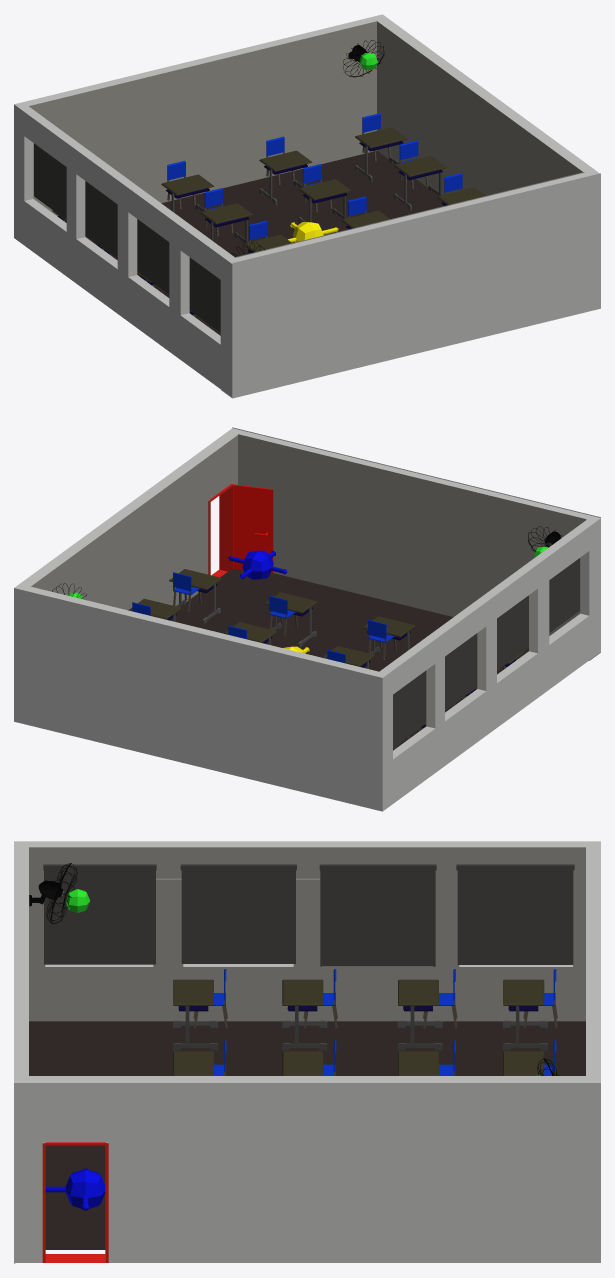
The model's file is modelo_3d.glb.
3 renders of one model, top to bottom at view 1: azimuth 30°, elevation 25°; view 2: azimuth 150°, elevation 25°; view 3: azimuth 270°, elevation 25°, orthographic. The views are drawn at different scales.
Visible parts, largest first — view 1: prototipo sala 1 (1).001, parede fundo, chão da sala, topo da mesa.009, topo da mesa.010, topo da mesa.012, topo da mesa.014, topo da mesa.008, topo da mesa.013, Cubo.002; view 2: prototipo sala 1 (1).001, parede fundo, chão da sala, porta, batente da porta, Cubo.003, Plano.009, Plano.010, Plano.011; view 3: prototipo sala 1 (1).001, chão da sala, batente da porta, Cubo.003, topo da mesa.007, topo da mesa.015, topo da mesa.003, topo da mesa.011, topo da mesa.006, topo da mesa.014, topo da mesa.002, topo da mesa.010 (+1 smaller).
Boxes of the visible parts, bbox=[...] form: prototipo sala 1 (1).001: bbox=[14, 14, 599, 397]; parede fundo: bbox=[221, 172, 600, 398]; chão da sala: bbox=[85, 150, 443, 335]; topo da mesa.009: bbox=[298, 179, 351, 200]; topo da mesa.010: bbox=[200, 203, 253, 224]; topo da mesa.012: bbox=[355, 127, 407, 148]; topo da mesa.014: bbox=[161, 174, 214, 195]; topo da mesa.008: bbox=[394, 156, 446, 177]; topo da mesa.013: bbox=[259, 150, 312, 171]; Cubo.002: bbox=[288, 222, 338, 242]; prototipo sala 1 (1).001: bbox=[14, 428, 600, 811]; parede fundo: bbox=[232, 427, 600, 660]; chão da sala: bbox=[169, 569, 528, 747]; porta: bbox=[232, 484, 273, 573]; batente da porta: bbox=[208, 483, 233, 577]; Cubo.003: bbox=[228, 550, 287, 579]; Plano.009: bbox=[368, 620, 396, 659]; Plano.010: bbox=[269, 595, 297, 635]; Plano.011: bbox=[173, 572, 201, 612]; prototipo sala 1 (1).001: bbox=[14, 841, 600, 1262]; chão da sala: bbox=[29, 1021, 585, 1249]; batente da porta: bbox=[42, 1142, 108, 1262]; Cubo.003: bbox=[45, 1168, 105, 1210]; topo da mesa.007: bbox=[282, 979, 323, 1005]; topo da mesa.015: bbox=[503, 979, 544, 1005]; topo da mesa.003: bbox=[173, 979, 213, 1005]; topo da mesa.011: bbox=[398, 979, 438, 1005]; topo da mesa.006: bbox=[282, 1051, 323, 1075]; topo da mesa.014: bbox=[503, 1051, 544, 1075]; topo da mesa.002: bbox=[173, 1051, 213, 1075]; topo da mesa.010: bbox=[398, 1051, 438, 1075].
Bounding box in the file's own units: 2.63 × 0.9177 × 2.68.
